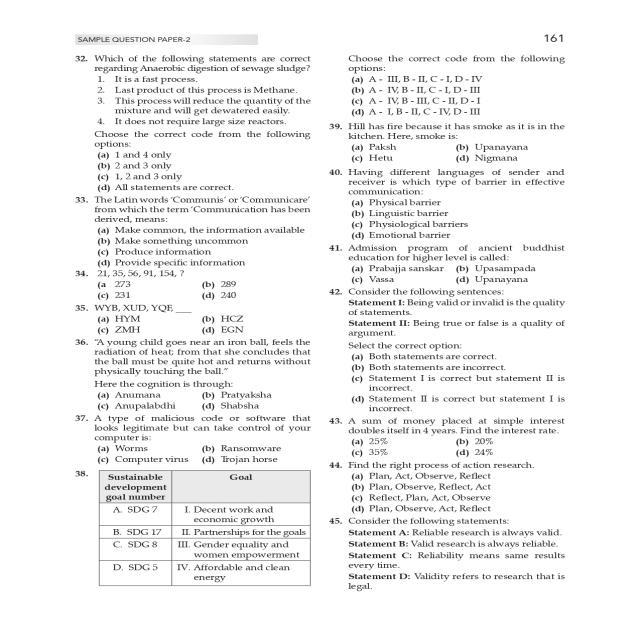Answer_Block: (326, 349, 584, 414), (44, 144, 323, 192), (44, 223, 323, 266), (326, 72, 584, 118), (326, 197, 584, 240), (326, 472, 584, 512), (326, 133, 584, 165), (44, 313, 323, 337), (44, 389, 323, 413), (44, 442, 323, 466), (326, 258, 584, 282), (44, 280, 323, 302), (326, 436, 584, 458)
Question_Answer_Block: (44, 51, 323, 192), (44, 466, 323, 594), (326, 282, 584, 414), (44, 336, 323, 414), (44, 192, 323, 267), (326, 163, 584, 243), (326, 518, 584, 596), (326, 48, 584, 122), (44, 412, 323, 468), (326, 458, 584, 514), (326, 412, 584, 460), (326, 119, 584, 166), (326, 240, 584, 286), (44, 266, 323, 302), (44, 302, 323, 338)
Question_Block: (44, 466, 323, 594), (44, 50, 323, 148), (326, 518, 584, 596), (326, 282, 584, 350), (44, 336, 323, 390), (44, 192, 323, 225), (326, 163, 584, 198), (44, 413, 323, 445), (326, 48, 584, 73), (326, 240, 584, 263), (326, 412, 584, 434), (326, 120, 584, 140), (44, 266, 323, 282), (326, 458, 584, 473), (44, 302, 323, 314)
Question_Paper_Area: (44, 50, 323, 592), (326, 50, 584, 592)
